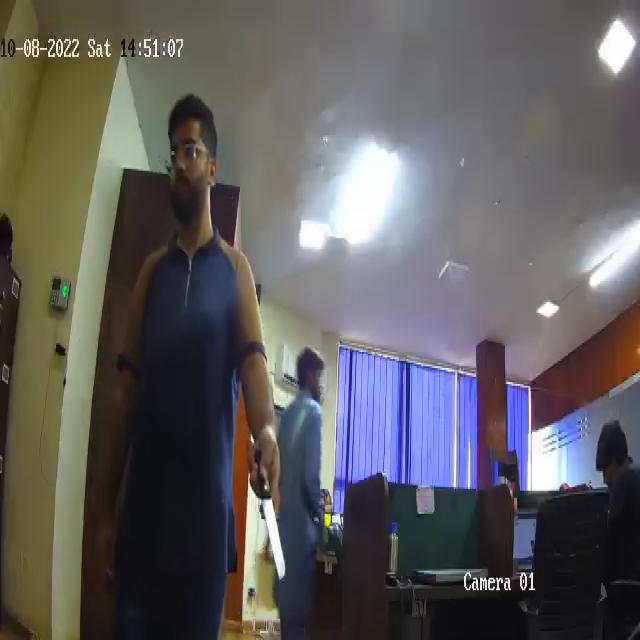Knife: (249, 447, 286, 578)
